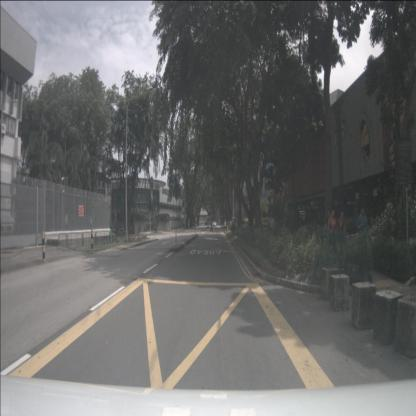human-pedestrian-adult: (355, 206, 370, 276), (336, 211, 346, 257), (328, 209, 337, 256), (324, 209, 333, 251), (282, 214, 288, 247), (269, 216, 275, 243), (155, 222, 158, 234), (210, 221, 213, 232), (224, 220, 227, 230)
